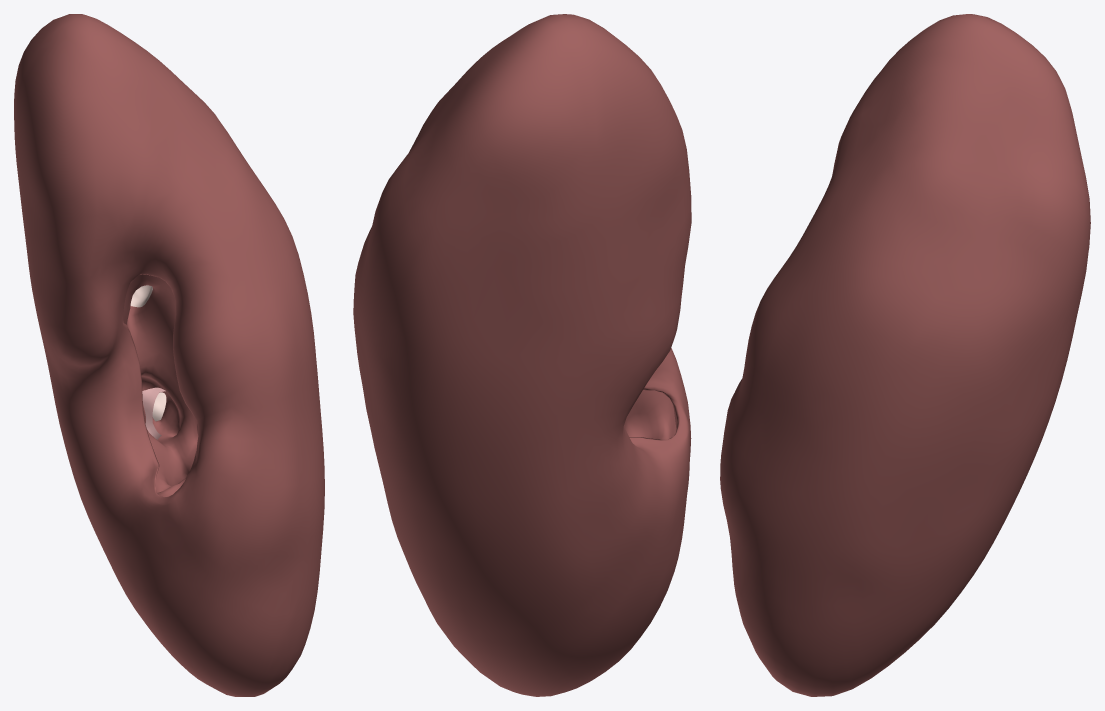
The model's file is kidney-l.glb.
The picture shows the model from 3 angles, left to right: view 1: azimuth 30°, elevation 25°; view 2: azimuth 150°, elevation 25°; view 3: azimuth 270°, elevation 25°; orthographic projection. The views are drawn at different scales.
Parts seen in each view (by area): view 1: VH_F_kidney_capsule_L, VH_F_renal_column_L, VH_F_renal_pyramid_L_a; view 2: VH_F_kidney_capsule_L; view 3: VH_F_kidney_capsule_L.
Boxes of the visible parts, x1,y1,x2,y2 form: VH_F_kidney_capsule_L: (14,14,324,696); VH_F_renal_column_L: (130,285,166,421); VH_F_renal_pyramid_L_a: (142,286,165,439); VH_F_kidney_capsule_L: (353,14,691,696); VH_F_kidney_capsule_L: (720,14,1090,696).
Bounding box in the file's own units: 0.0433 × 0.1065 × 0.0566.
